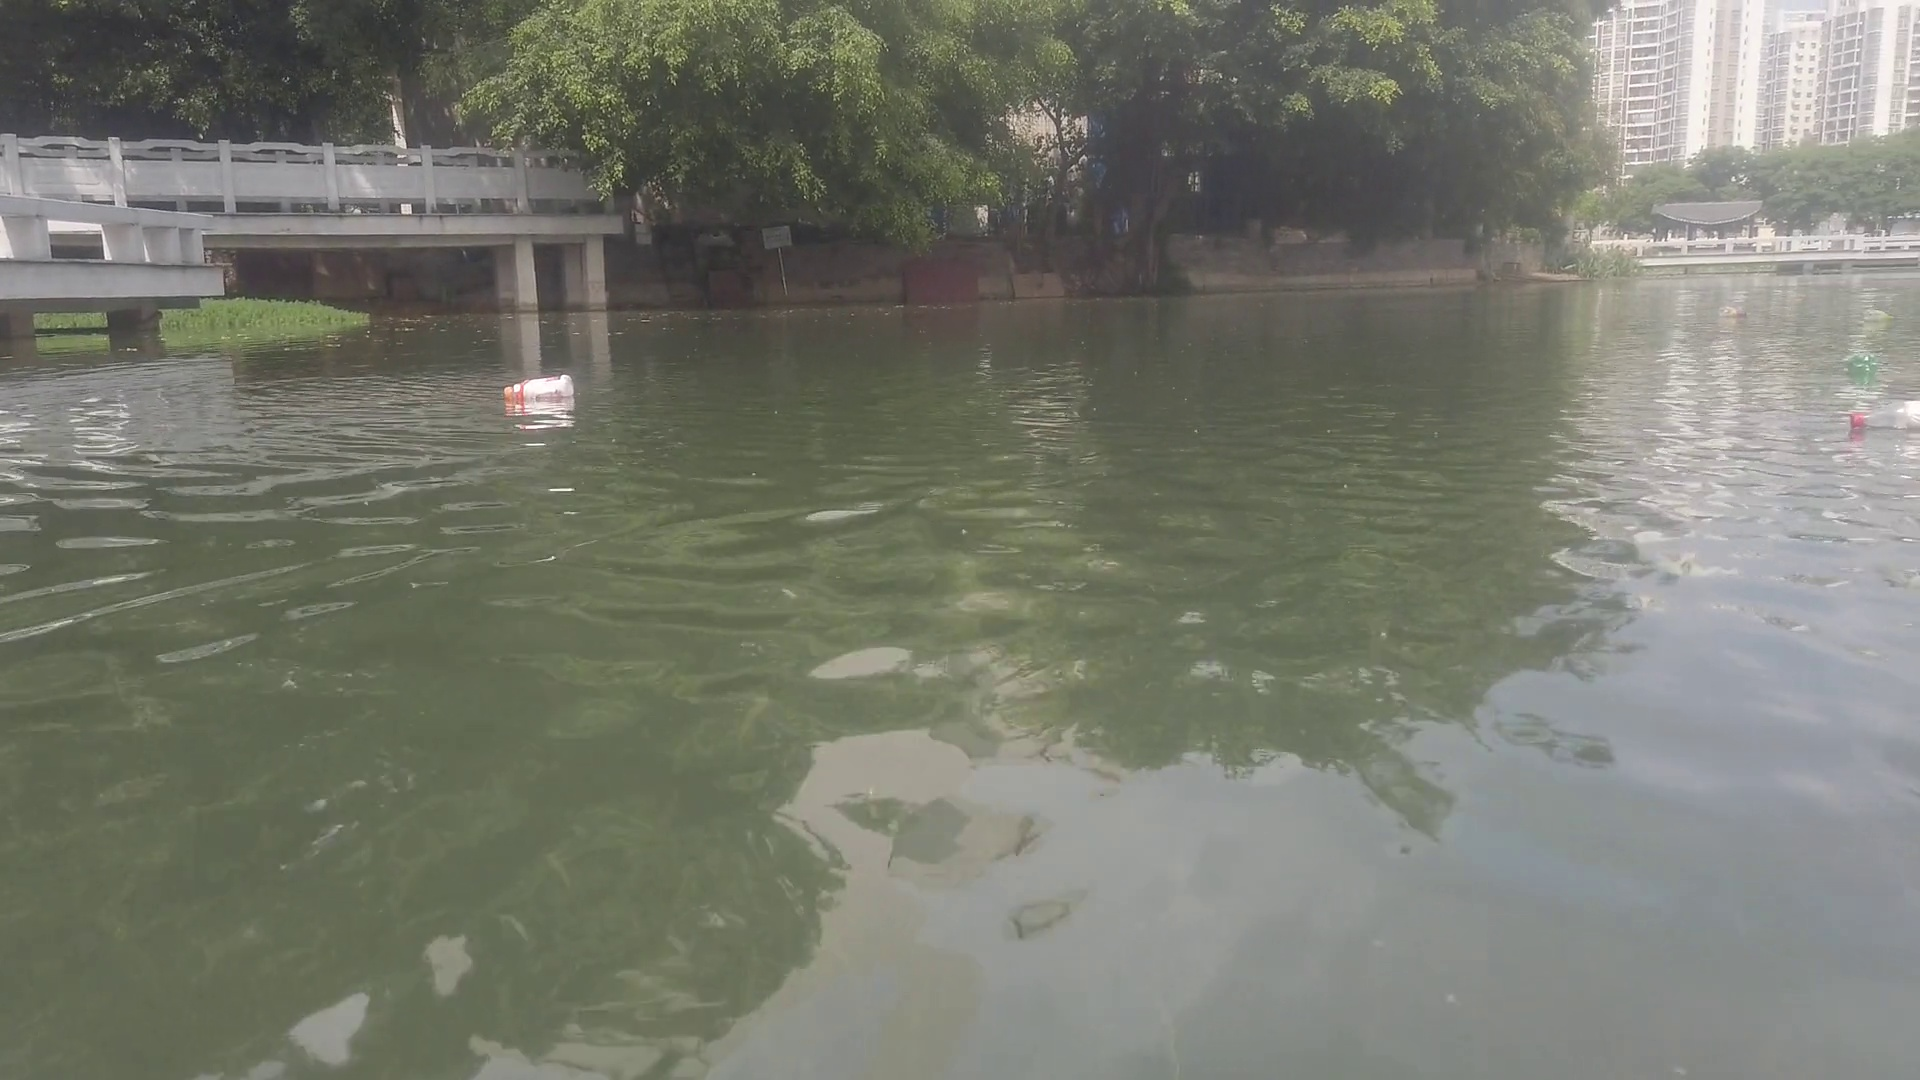bottle: (1849, 398, 1920, 429), (504, 371, 574, 400), (1845, 353, 1878, 378), (1720, 302, 1745, 316)
